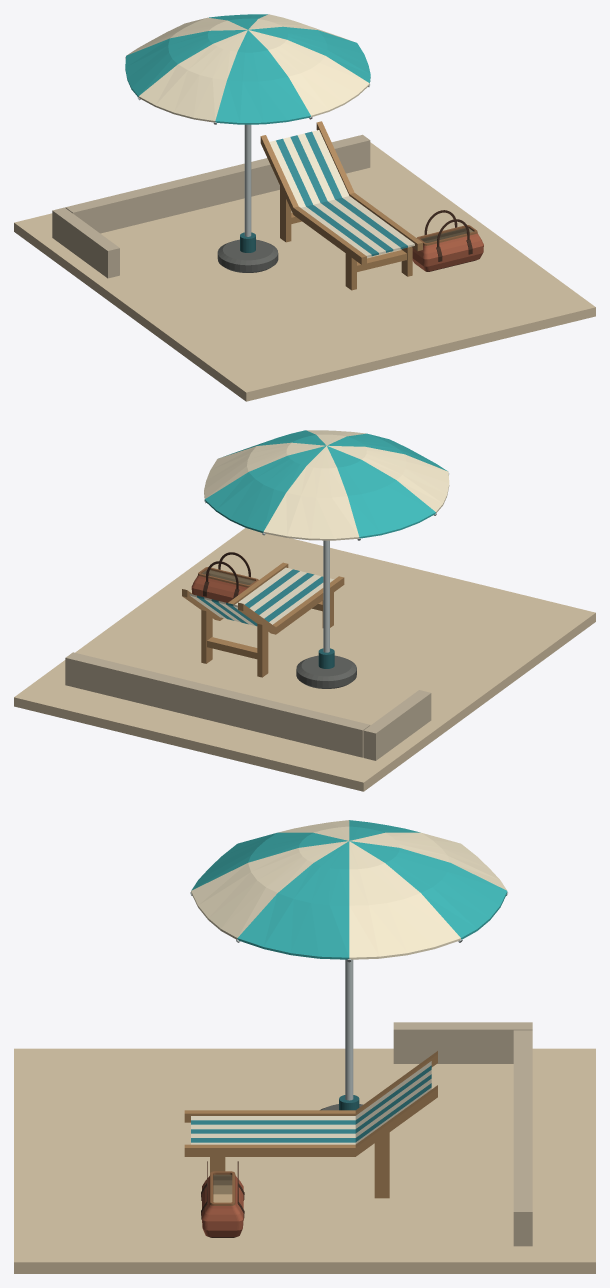
The picture shows the model from 3 angles, top to bottom: view 1: azimuth 30°, elevation 25°; view 2: azimuth 150°, elevation 25°; view 3: azimuth 270°, elevation 25°; orthographic projection. The views are drawn at different scales.
Visible parts, largest first — view 1: SCENE_ONLY__SandAndLowBayBoundary, parasol__Canopy_OneClosedThickEightPanelShell, chaise__WholeContinuousStripedSling, chaise__LeftIntegralGroundedSideFrame, bag__Body_SoftOpenMainChamber, parasol__Base_FiniteBevelledBallast, chaise__RightIntegralGroundedSideFrame, parasol__Pole_OneContinuousCentralMast, chaise__FrontFullCrossStretcher; view 2: SCENE_ONLY__SandAndLowBayBoundary, parasol__Canopy_OneClosedThickEightPanelShell, chaise__WholeContinuousStripedSling, chaise__LeftIntegralGroundedSideFrame, parasol__Base_FiniteBevelledBallast, chaise__RightIntegralGroundedSideFrame, bag__Body_SoftOpenMainChamber, parasol__Pole_OneContinuousCentralMast, chaise__RearFullCrossStretcher; view 3: SCENE_ONLY__SandAndLowBayBoundary, parasol__Canopy_OneClosedThickEightPanelShell, chaise__WholeContinuousStripedSling, chaise__RightIntegralGroundedSideFrame, bag__Body_SoftOpenMainChamber, chaise__LeftIntegralGroundedSideFrame, parasol__Pole_OneContinuousCentralMast.
Boxes of the visible parts, x1,y1,x2,y2 form: SCENE_ONLY__SandAndLowBayBoundary: (14,134,595,401); parasol__Canopy_OneClosedThickEightPanelShell: (125,14,370,124); chaise__WholeContinuousStripedSling: (269,130,414,257); chaise__LeftIntegralGroundedSideFrame: (260,135,366,290); bag__Body_SoftOpenMainChamber: (412,228,483,271); parasol__Base_FiniteBevelledBallast: (217,239,278,272); chaise__RightIntegralGroundedSideFrame: (316,121,422,276); parasol__Pole_OneContinuousCentralMast: (244,124,251,236); chaise__FrontFullCrossStretcher: (357,250,406,271); SCENE_ONLY__SandAndLowBayBoundary: (14,528,595,791); parasol__Canopy_OneClosedThickEightPanelShell: (204,430,449,540); chaise__WholeContinuousStripedSling: (189,567,334,626); chaise__LeftIntegralGroundedSideFrame: (238,576,344,677); parasol__Base_FiniteBevelledBallast: (296,655,356,688); chaise__RightIntegralGroundedSideFrame: (182,562,288,663); bag__Body_SoftOpenMainChamber: (191,570,254,602); parasol__Pole_OneContinuousCentralMast: (323,540,329,652); chaise__RearFullCrossStretcher: (207,637,257,659); SCENE_ONLY__SandAndLowBayBoundary: (14,1022,595,1273); parasol__Canopy_OneClosedThickEightPanelShell: (191,820,507,959); chaise__WholeContinuousStripedSling: (191,1061,431,1144); chaise__RightIntegralGroundedSideFrame: (184,1085,437,1198); bag__Body_SoftOpenMainChamber: (202,1174,243,1237); chaise__LeftIntegralGroundedSideFrame: (184,1051,437,1122); parasol__Pole_OneContinuousCentralMast: (345,959,353,1100).
Bounding box in the file's own units: 4 × 2.63 × 4.6.
